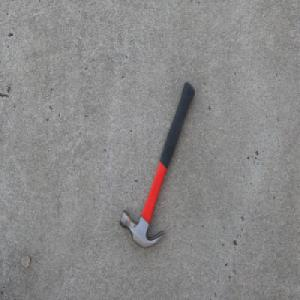Hammer: (118, 81, 195, 249)
